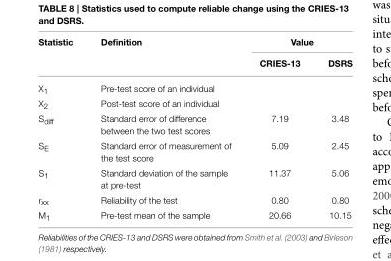table: (37, 37, 351, 221)
table column: (86, 37, 244, 221), (244, 37, 313, 221), (37, 37, 86, 221), (313, 37, 351, 221)
table column header: (37, 37, 351, 75)
table row: (37, 111, 351, 138), (37, 138, 351, 165), (37, 165, 351, 192), (37, 52, 351, 75), (37, 75, 351, 96), (37, 192, 351, 208), (37, 37, 351, 52), (37, 96, 351, 111), (37, 208, 351, 221)
table spanning cell: (86, 37, 244, 75), (37, 37, 86, 75), (244, 37, 351, 52)
